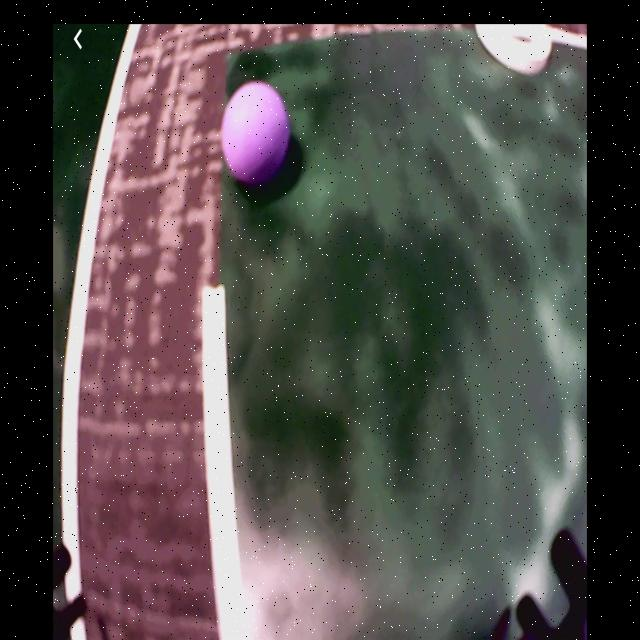ball: (223, 82, 292, 187)
